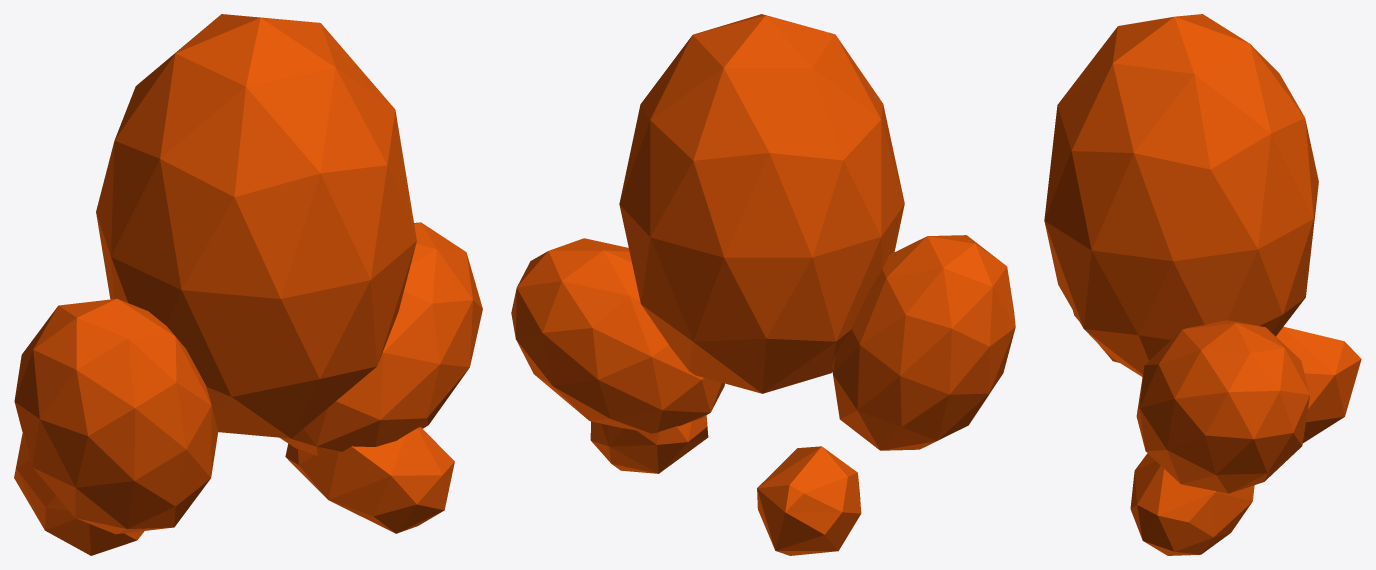
Rendered from tree-autumn-leaves-10-040.glb.
3 renders of one model, left to right at view 1: azimuth 30°, elevation 25°; view 2: azimuth 150°, elevation 25°; view 3: azimuth 270°, elevation 25°, orthographic. The views are drawn at different scales.
Parts seen in each view (by area): view 1: TREE 10.003_383; view 2: TREE 10.003_383; view 3: TREE 10.003_383.
Boxes of the visible parts, left/top/right/bottom form: TREE 10.003_383: left=14, top=14, right=482, bottom=555; TREE 10.003_383: left=511, top=14, right=1015, bottom=555; TREE 10.003_383: left=1044, top=14, right=1361, bottom=555.
Bounding box in the file's own units: 1.19 × 1.25 × 0.7525.
